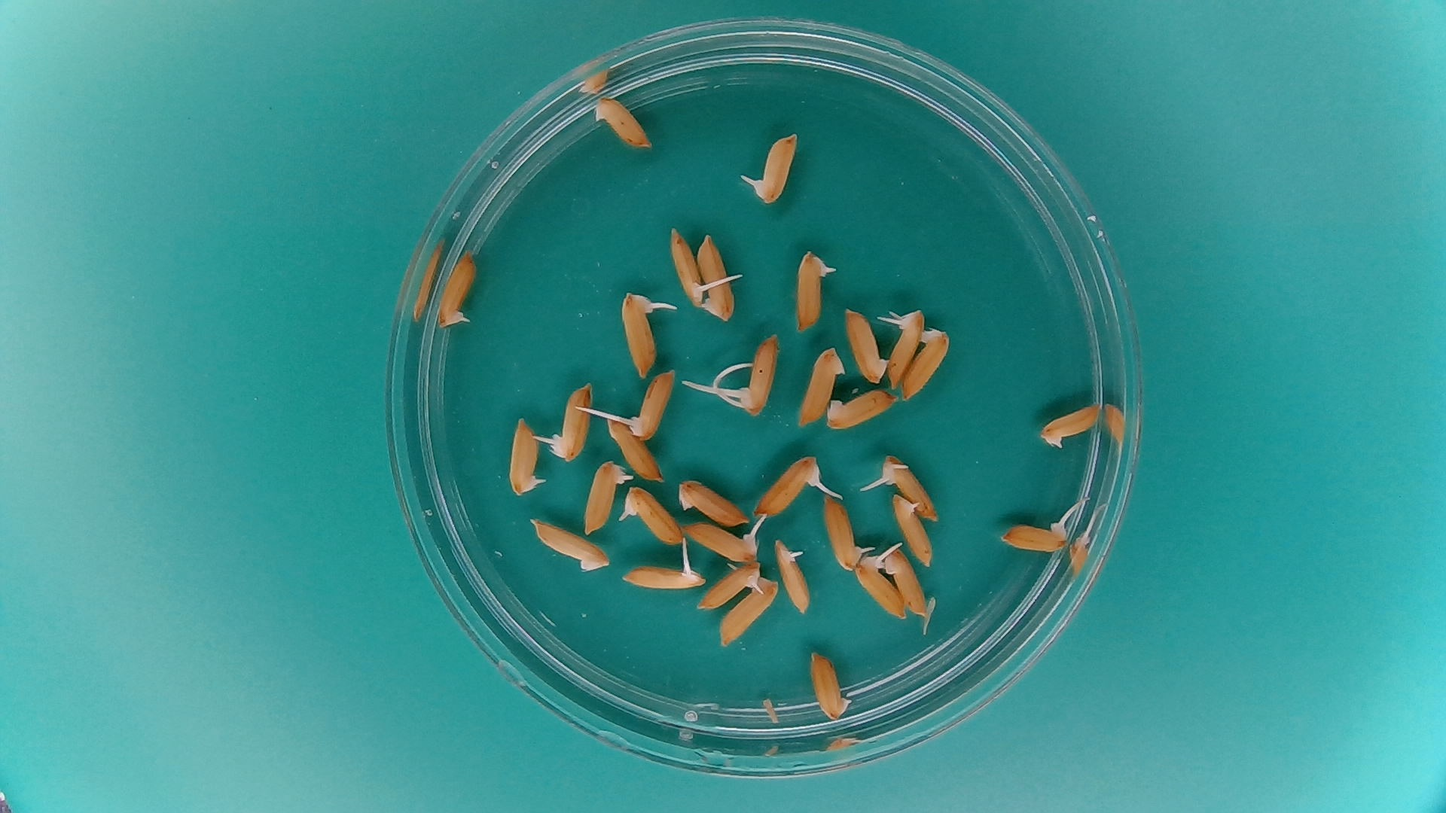no: (533, 519, 610, 574), (589, 93, 654, 154), (606, 417, 666, 483), (801, 346, 847, 431), (807, 647, 856, 723), (678, 477, 751, 528), (844, 308, 890, 386), (883, 544, 932, 617), (905, 324, 951, 400), (1037, 401, 1105, 450), (700, 233, 736, 322), (825, 388, 896, 428)
yes: (751, 455, 819, 520), (717, 577, 780, 645), (623, 483, 684, 548), (619, 291, 661, 381), (881, 454, 941, 517), (889, 489, 936, 566), (679, 519, 761, 563), (793, 249, 837, 331), (883, 306, 926, 389), (738, 332, 780, 416), (752, 130, 801, 202), (581, 461, 628, 536), (997, 510, 1075, 555), (695, 561, 763, 612), (772, 534, 813, 617), (433, 252, 476, 330), (856, 558, 908, 622), (823, 491, 864, 570), (553, 386, 594, 464), (630, 368, 676, 437), (508, 416, 545, 498), (668, 224, 703, 307), (620, 561, 704, 592)
